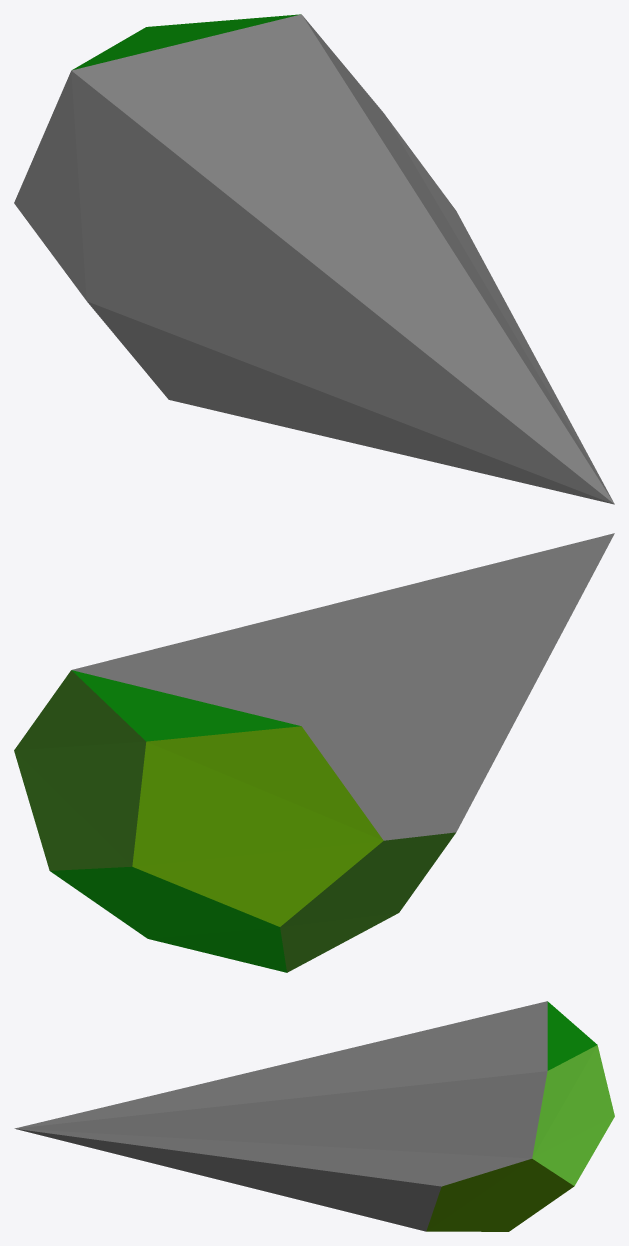
Rendered from anaconda.obj.
The picture shows the model from 3 angles, top to bottom: view 1: azimuth 30°, elevation 25°; view 2: azimuth 150°, elevation 25°; view 3: azimuth 270°, elevation 25°; orthographic projection. The views are drawn at different scales.
Parts seen in each view (by area): view 1: anaconda; view 2: anaconda; view 3: anaconda.
Boxes of the visible parts, x1=… form: anaconda: x1=14, y1=14, x2=614, y2=504; anaconda: x1=14, y1=533, x2=614, y2=972; anaconda: x1=14, y1=1001, x2=614, y2=1231.
Size of the model in its own units: 138 by 100 by 312.
